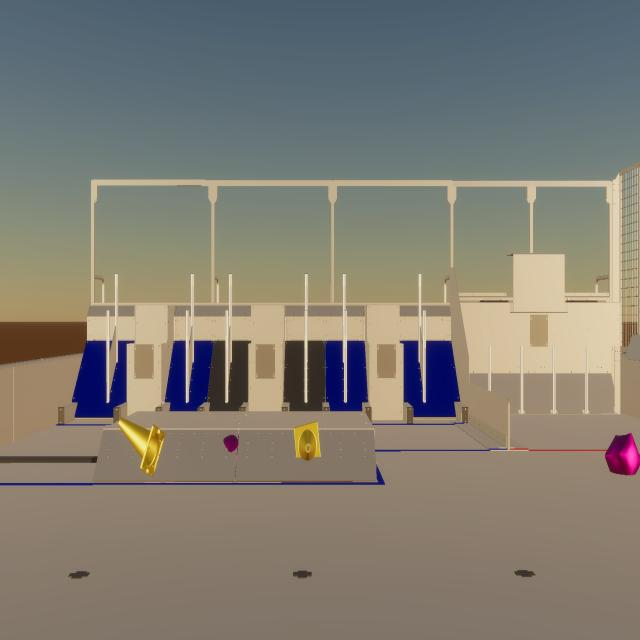frc_cone: (119, 417, 165, 477), (294, 421, 320, 461)
frc_cube: (605, 433, 640, 475), (223, 433, 239, 478)
